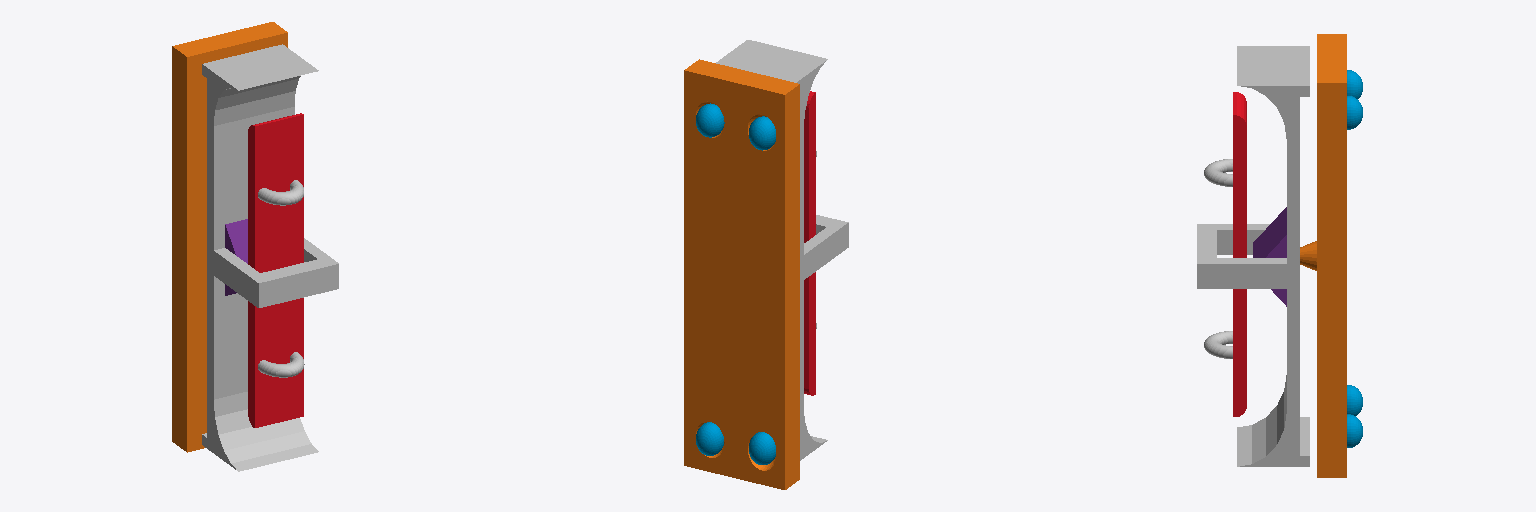
The model's file is SpinningSeeSaw.obj.
3 renders of one model, left to right at view 1: azimuth 30°, elevation 25°; view 2: azimuth 150°, elevation 25°; view 3: azimuth 270°, elevation 25°, orthographic.
Parts seen in each view (by area): view 1: obj_0; view 2: obj_0; view 3: obj_0.
Boxes of the visible parts, x1=… form: obj_0: x1=172, y1=22, x2=338, y2=471; obj_0: x1=684, y1=40, x2=848, y2=489; obj_0: x1=1197, y1=34, x2=1362, y2=477.
Bounding box in the file's own units: 35 × 131 × 50.